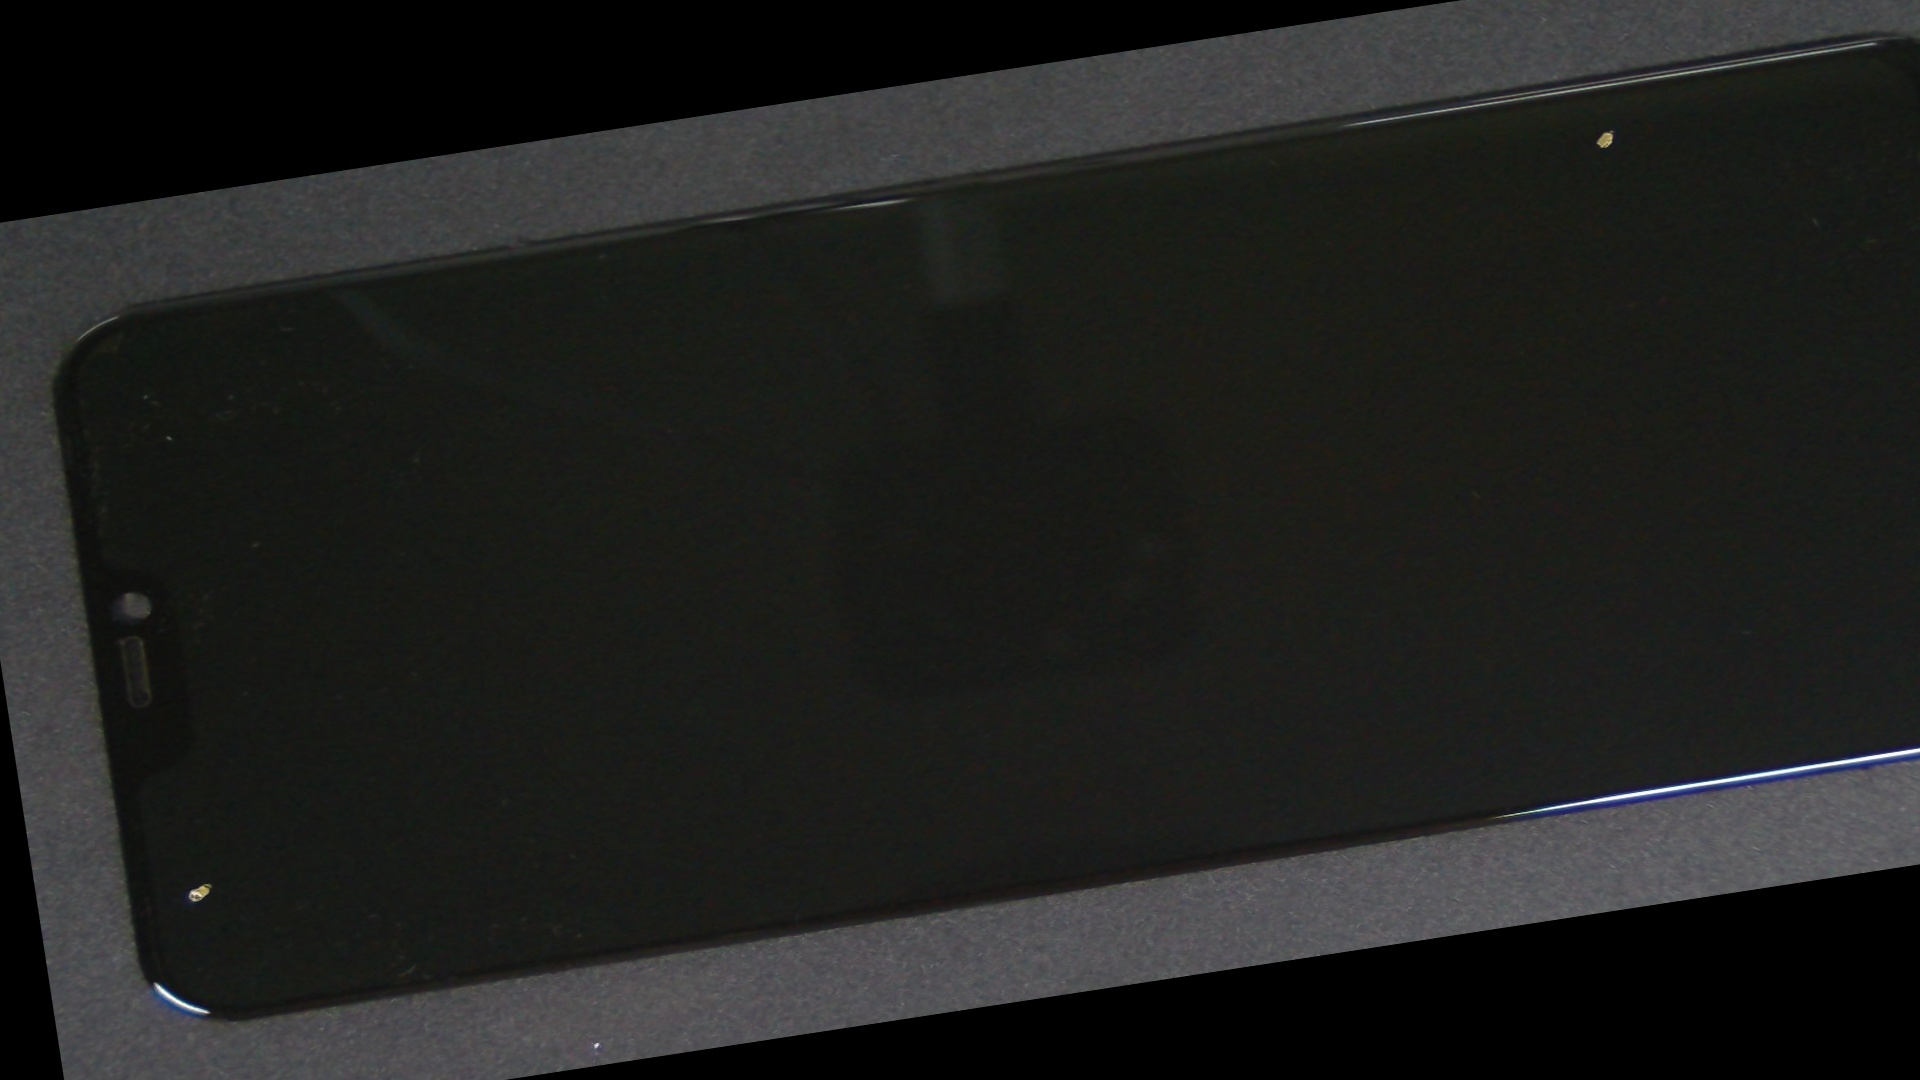oil: (944, 115, 1920, 690), (774, 0, 1920, 328), (70, 531, 322, 1080)
